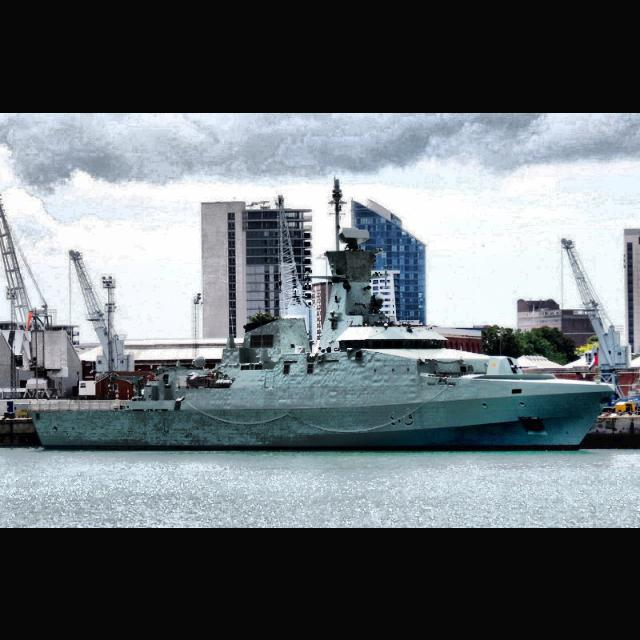combat_vessel: (28, 221, 620, 453)
